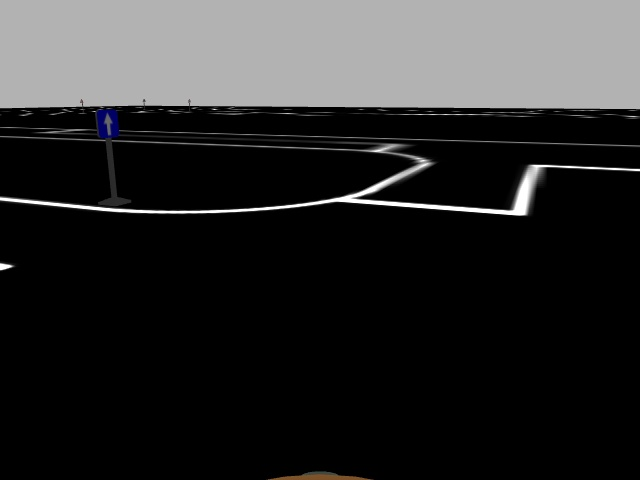oneway: (95, 108, 121, 141)
